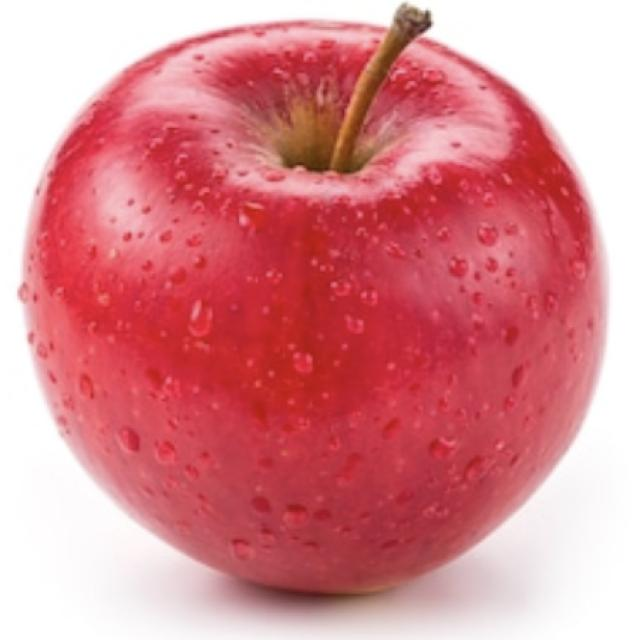Apel: (17, 20, 612, 597)
